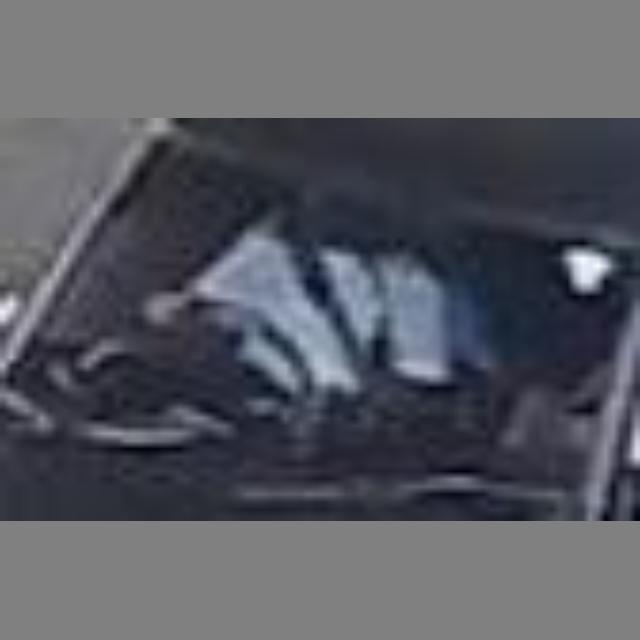pakai: (160, 194, 465, 423)
